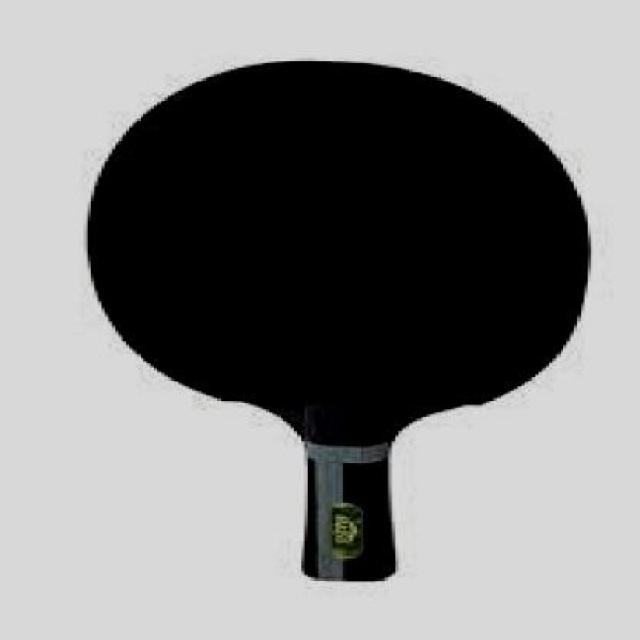table_tennis_racket: (68, 52, 597, 431)
